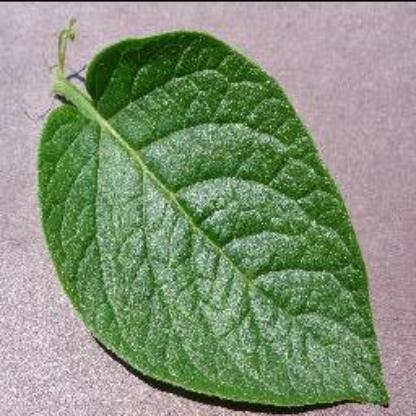Healthy-plant: (26, 16, 394, 408)
